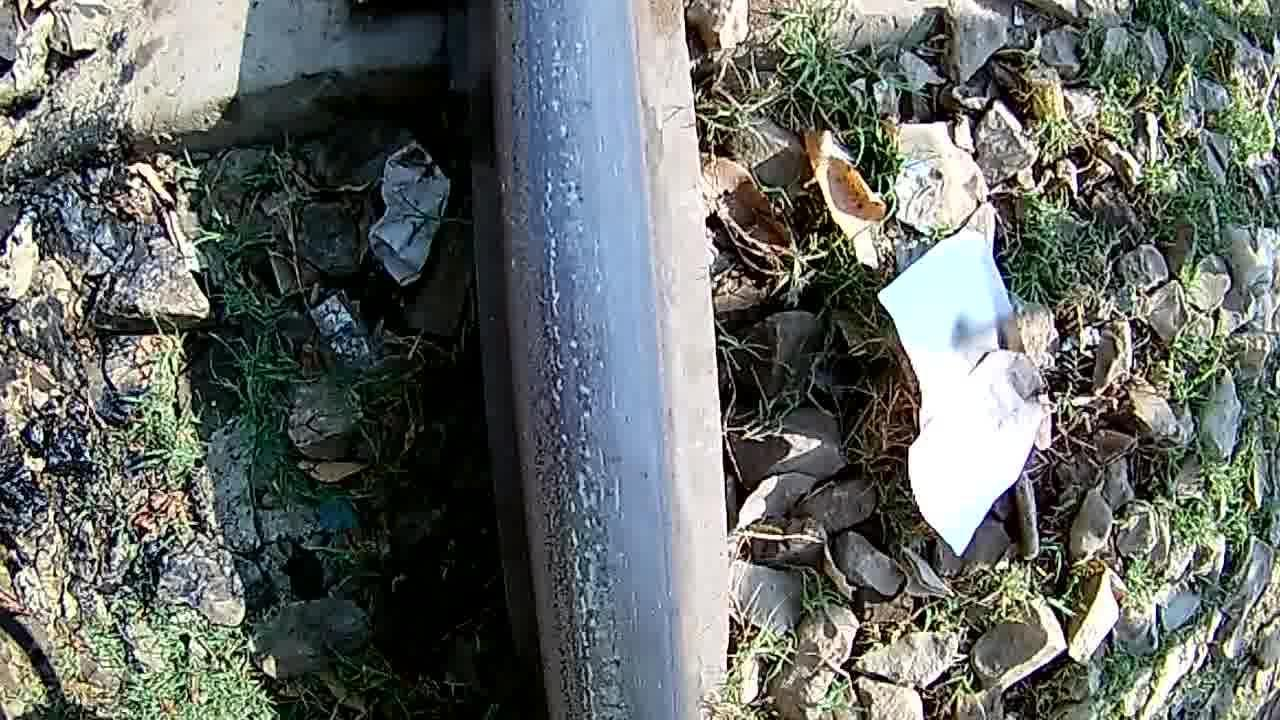crack: (518, 6, 646, 716)
